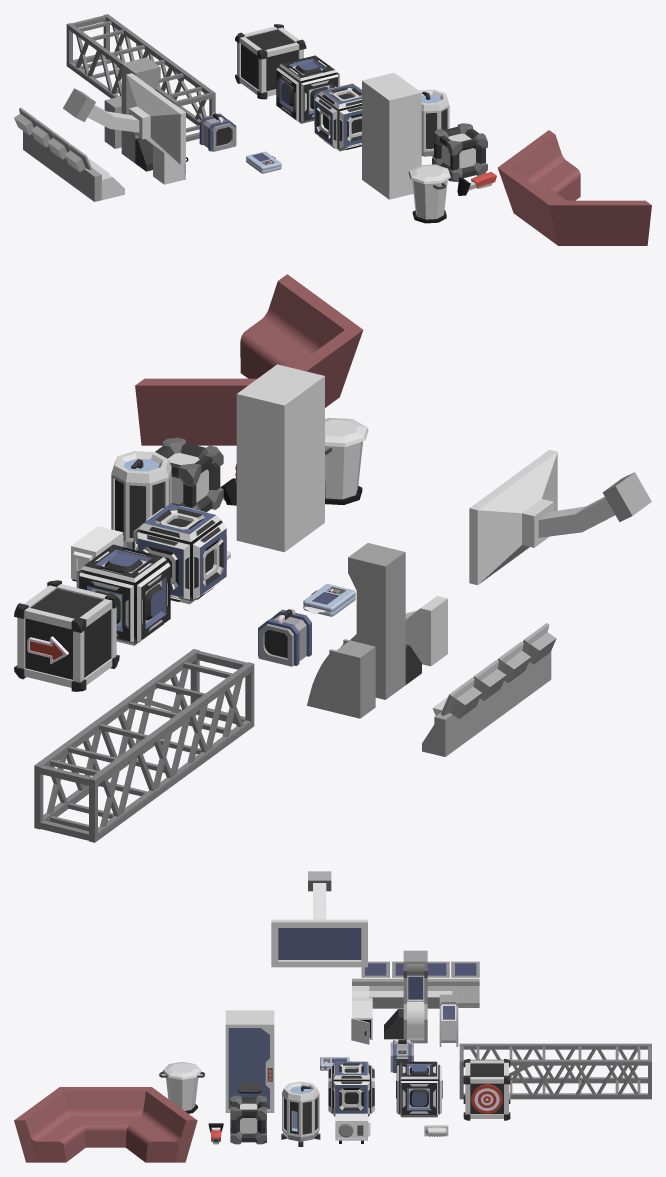
The model's file is props (2).fbx.
3 renders of one model, top to bottom at view 1: azimuth 30°, elevation 25°; view 2: azimuth 150°, elevation 25°; view 3: azimuth 270°, elevation 25°, orthographic. The views are drawn at different scales.
Visible parts, largest first — view 1: Circle.001, Cube.009, Plane.014, Television, Computers, Cube.003, Cube.002, Cube, Cube.006, Circle.002, Cube.008, LargeScreen (+7 smaller); view 2: Plane.014, Circle.001, Cube.009, Television, Cube.003, Computers, LargeScreen, Cube, Cube.002, Cube.008, SmallScreen, Cube.006 (+6 smaller); view 3: Circle.001, Plane.014, Television, Cube.009, Computers, Cube.002, Cube, LargeScreen, Cube.008, Cube.006, Cube.003, Circle.002 (+6 smaller).
Part boxes in pixels (left/top/right/bottom): Circle.001: left=497, top=130, right=651, bottom=245; Cube.009: left=362, top=72, right=421, bottom=199; Plane.014: left=66, top=14, right=215, bottom=141; Television: left=63, top=73, right=185, bottom=164; Computers: left=14, top=107, right=124, bottom=201; Cube.003: left=237, top=26, right=303, bottom=96; Cube.002: left=276, top=55, right=339, bottom=123; Cube: left=314, top=83, right=361, bottom=151; Cube.006: left=432, top=123, right=487, bottom=181; Circle.002: left=408, top=164, right=450, bottom=223; Cube.008: left=419, top=89, right=449, bottom=157; LargeScreen: left=121, top=57, right=160, bottom=163; Plane.014: left=34, top=649, right=254, bottom=842; Circle.001: left=135, top=274, right=363, bottom=445; Cube.009: left=235, top=364, right=324, bottom=552; Television: left=469, top=449, right=651, bottom=585; Cube.003: left=17, top=584, right=116, bottom=687; Computers: left=422, top=623, right=556, bottom=756; LargeScreen: left=348, top=543, right=405, bottom=699; Cube: left=132, top=503, right=226, bottom=604; Cube.002: left=76, top=544, right=170, bottom=645; Cube.008: left=111, top=451, right=171, bottom=548; SmallScreen: left=307, top=639, right=375, bottom=718; Cube.006: left=155, top=437, right=223, bottom=512; Circle.001: left=14, top=1087, right=197, bottom=1162; Plane.014: left=459, top=1043, right=651, bottom=1099; Television: left=271, top=871, right=367, bottom=967; Cube.009: left=225, top=1010, right=274, bottom=1112; Computers: left=352, top=961, right=479, bottom=1008; Cube.002: left=396, top=1061, right=442, bottom=1117; Cube: left=328, top=1061, right=374, bottom=1116; LargeScreen: left=403, top=950, right=427, bottom=1043; Cube.008: left=281, top=1081, right=320, bottom=1146; Cube.006: left=230, top=1095, right=266, bottom=1144; Cube.003: left=465, top=1060, right=508, bottom=1118; Circle.002: left=159, top=1061, right=204, bottom=1113.
Size of the model in its own units: 2525 by 881 by 3766.
